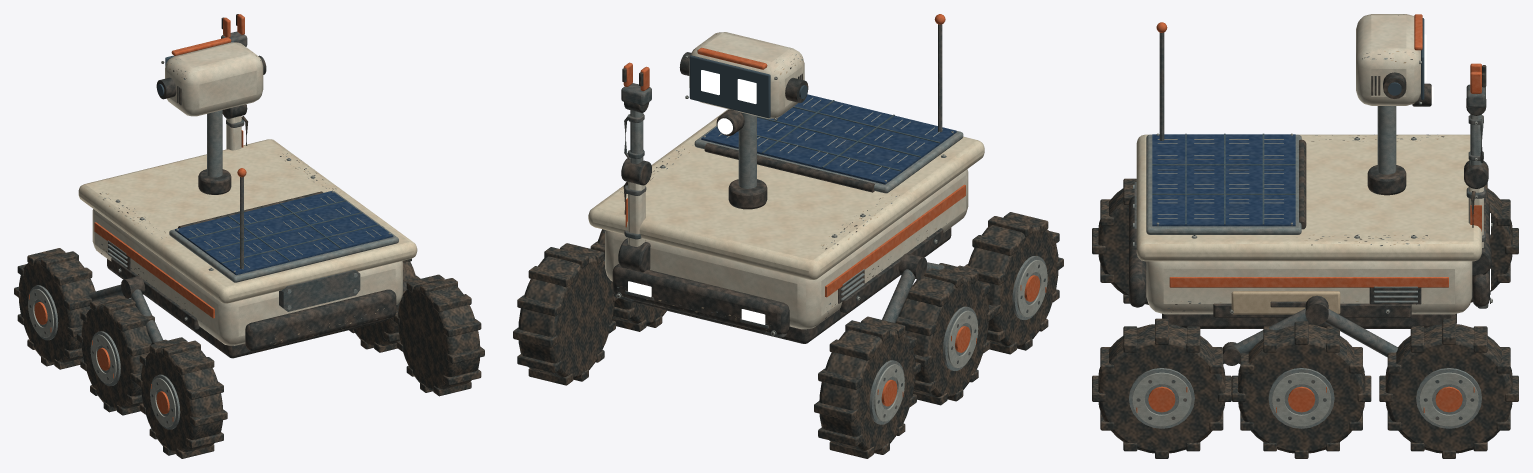
Rendered from gar_y.glb.
3 renders of one model, left to right at view 1: azimuth 30°, elevation 25°; view 2: azimuth 150°, elevation 25°; view 3: azimuth 270°, elevation 25°, orthographic. The views are drawn at different scales.
Parts seen in each view (by area): view 1: deck_white_painted, solar_cells_solar_cell, wheel_6_black_rubber, wheel_5_black_rubber, chassis_rover_white, wheel_1_black_rubber, wheel_3_black_rubber, head_rover_white, bumper_rear_graphite, rear_hitch_backing_dark_alloy, solar_frame_alloy, wheel_4_black_rubber (+11 smaller); view 2: deck_white_painted, wheel_2_black_rubber, chassis_rover_white, solar_cells_solar_cell, wheel_1_black_rubber, wheel_3_black_rubber, wheel_5_black_rubber, bumper_front_graphite, head_rover_white, visor_dark_glass, trim_orange, Body_field_detail_graphite (+17 smaller); view 3: deck_white_painted, wheel_6_black_rubber, wheel_2_black_rubber, wheel_4_black_rubber, solar_cells_solar_cell, chassis_rover_white, head_rover_white, wheel_5_black_rubber, trim_orange, leg_r_dark_alloy, belly_graphite, solar_frame_alloy (+18 smaller).
Boxes of the visible parts, x1=… form: deck_white_painted: x1=78, y1=139, x2=417, y2=303; solar_cells_solar_cell: x1=175, y1=191, x2=393, y2=275; wheel_6_black_rubber: x1=393, y1=274, x2=484, y2=396; wheel_5_black_rubber: x1=136, y1=337, x2=227, y2=458; chassis_rover_white: x1=92, y1=209, x2=402, y2=345; wheel_1_black_rubber: x1=14, y1=248, x2=95, y2=369; wheel_3_black_rubber: x1=76, y1=295, x2=154, y2=415; head_rover_white: x1=165, y1=42, x2=263, y2=116; bumper_rear_graphite: x1=245, y1=289, x2=396, y2=351; rear_hitch_backing_dark_alloy: x1=279, y1=269, x2=360, y2=311; solar_frame_alloy: x1=169, y1=191, x2=398, y2=282; wheel_4_black_rubber: x1=349, y1=258, x2=420, y2=352; deck_white_painted: x1=588, y1=109, x2=984, y2=279; wheel_2_black_rubber: x1=513, y1=243, x2=618, y2=385; chassis_rover_white: x1=605, y1=169, x2=968, y2=329; solar_cells_solar_cell: x1=701, y1=94, x2=956, y2=184; wheel_1_black_rubber: x1=814, y1=316, x2=920, y2=458; wheel_3_black_rubber: x1=896, y1=263, x2=994, y2=405; wheel_5_black_rubber: x1=964, y1=212, x2=1063, y2=354; bumper_front_graphite: x1=612, y1=264, x2=789, y2=334; head_rover_white: x1=689, y1=32, x2=804, y2=118; visor_dark_glass: x1=689, y1=55, x2=770, y2=118; trim_orange: x1=825, y1=184, x2=965, y2=297; Body_field_detail_graphite: x1=617, y1=149, x2=943, y2=334; deck_white_painted: x1=1136, y1=134, x2=1481, y2=261; wheel_6_black_rubber: x1=1092, y1=318, x2=1231, y2=458; wheel_2_black_rubber: x1=1379, y1=318, x2=1518, y2=458; wheel_4_black_rubber: x1=1231, y1=321, x2=1371, y2=458; solar_cells_solar_cell: x1=1152, y1=134, x2=1295, y2=226; chassis_rover_white: x1=1146, y1=261, x2=1472, y2=314; head_rover_white: x1=1356, y1=14, x2=1420, y2=105; wheel_5_black_rubber: x1=1092, y1=178, x2=1148, y2=304; trim_orange: x1=1169, y1=277, x2=1448, y2=287; leg_r_dark_alloy: x1=1222, y1=295, x2=1397, y2=365; belly_graphite: x1=1162, y1=313, x2=1456, y2=328; solar_frame_alloy: x1=1146, y1=134, x2=1301, y2=234.
Bounding box in the file's own units: 1.04 × 0.984 × 1.1.
14 materials, 11 textured.
